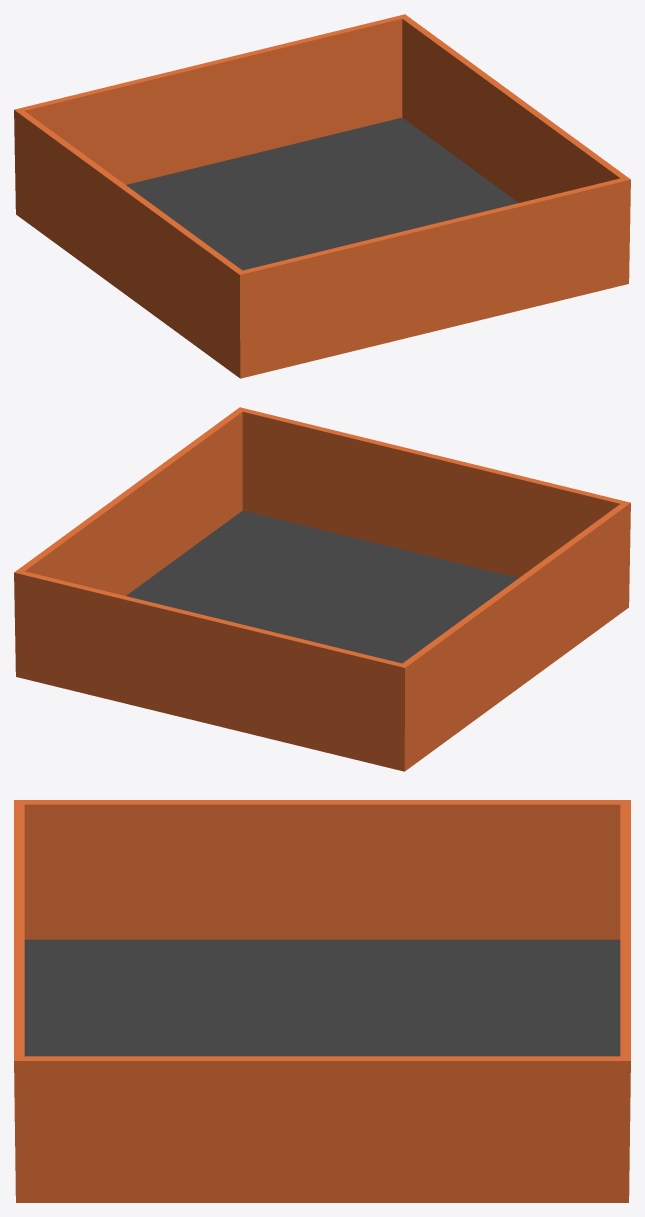
The model's file is dev_map.fbx.
3 renders of one model, top to bottom at view 1: azimuth 30°, elevation 25°; view 2: azimuth 150°, elevation 25°; view 3: azimuth 270°, elevation 25°, orthographic. The views are drawn at different scales.
Visible parts, largest first — view 1: Plane; view 2: Plane; view 3: Plane.
Part boxes in pixels (bbox=[...]): Plane: bbox=[14, 14, 630, 378]; Plane: bbox=[14, 407, 630, 771]; Plane: bbox=[14, 800, 630, 1202].
Bounding box in the file's own units: 4141 × 1058 × 4141.
